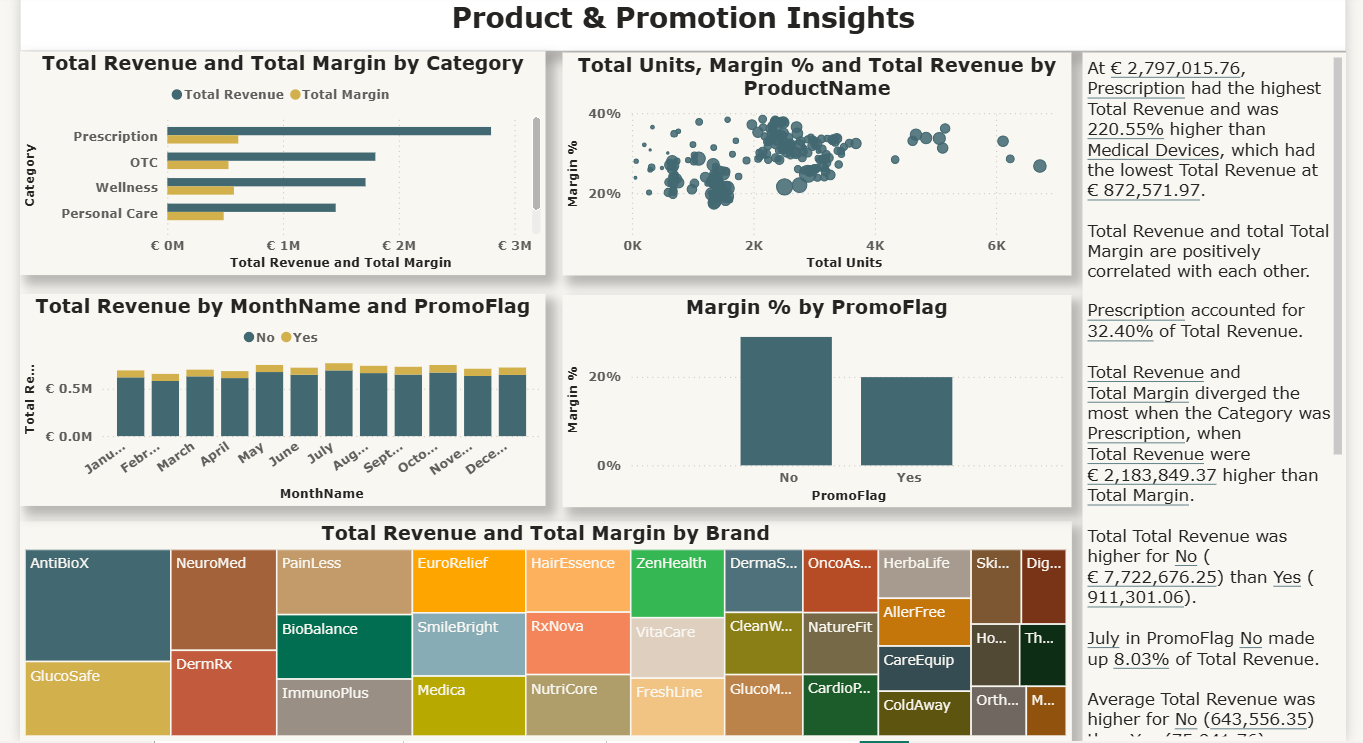

The dashboard page shown, as its layout file describes it:
{"tool":"powerbi","page":{"name":"Page 3","canvas":[1280,720],"ordinal":2},"visuals":[{"type":"textbox","box":[0,0,1280,53.8],"z":0},{"type":"clusteredBarChart","fields":{"Y":["All Measures.Total Revenue","All Measures.Total Margin"],"Category":["DimProduct.Category"]},"box":[0,53.8,507.5,216.2],"z":1000},{"type":"treemap","fields":{"Values":["All Measures.Total Revenue"],"Group":["DimProduct.Brand"]},"box":[0,507.5,1015,212.5],"z":2000},{"type":"scatterChart","fields":{"X":["All Measures.Total Units"],"Category":["DimProduct.ProductName"],"Size":["All Measures.Total Revenue"],"Y":["All Measures.Margin %"]},"box":[523.8,55,491.2,215],"z":3000},{"type":"columnChart","fields":{"Category":["DimDate.MonthName"],"Series":["FactSales.PromoFlag"],"Y":["All Measures.Total Revenue"]},"box":[0,288.8,507.5,205],"z":4000},{"type":"clusteredColumnChart","fields":{"Y":["All Measures.Margin %"],"Category":["FactSales.PromoFlag"]},"box":[524,289,491,205],"z":5000},{"type":"textbox","box":[1025,55,255,665],"z":6000}]}

Visuals, with their boxes on the page's 1280x720 design canvas (x1, y1, x2, y2). These are canvas units, not pixel positions in the 1363x743 screenshot, which may show the page scaled, cropped or inside an application window:
textbox: select_region(0, 0, 1280, 54)
clusteredBarChart - All Measures.Total Revenue x All Measures.Total Margin: select_region(0, 54, 508, 270)
treemap - All Measures.Total Revenue x DimProduct.Brand: select_region(0, 508, 1015, 720)
scatterChart - All Measures.Total Units x DimProduct.ProductName: select_region(524, 55, 1015, 270)
columnChart - DimDate.MonthName x FactSales.PromoFlag: select_region(0, 289, 508, 494)
clusteredColumnChart - All Measures.Margin % x FactSales.PromoFlag: select_region(524, 289, 1015, 494)
textbox: select_region(1025, 55, 1280, 720)
